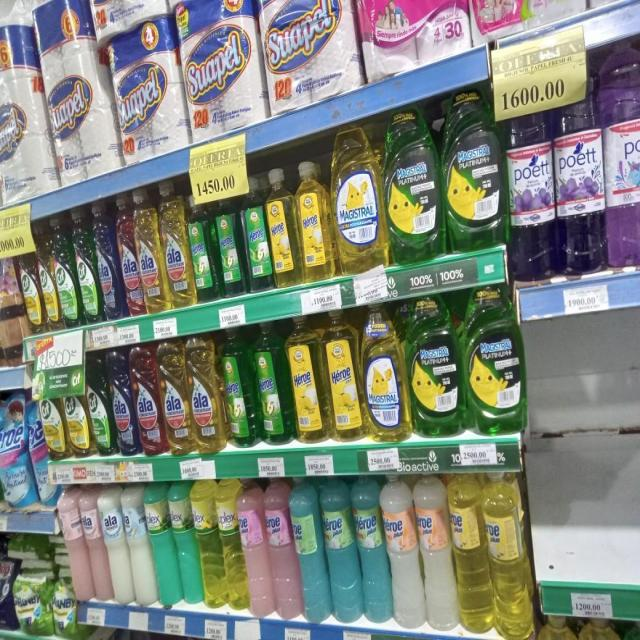ala_conc_amarillo: (191, 333, 223, 454), (164, 184, 193, 308), (162, 338, 190, 456), (140, 189, 164, 314)
ala_conc_azul: (98, 200, 120, 321), (112, 347, 134, 456)
ala_conc_rojo: (135, 344, 161, 457), (120, 193, 140, 318)
ala_crem_blanco: (128, 484, 152, 607), (103, 486, 127, 604)
ala_crem_rosado: (64, 489, 86, 602), (84, 487, 104, 602)
cif_conc_bot_amarilla: (66, 357, 88, 458), (42, 364, 64, 460), (22, 227, 40, 335), (40, 221, 56, 332)
cif_conc_botella_verde: (77, 205, 98, 325), (56, 213, 77, 328), (88, 350, 110, 457)
heroe: (485, 470, 527, 638), (450, 471, 485, 635), (323, 476, 356, 622), (327, 309, 362, 443), (356, 474, 386, 624), (292, 315, 326, 443), (258, 320, 292, 446), (225, 327, 257, 448), (220, 478, 242, 613)
magistral_con_amarillo: (333, 123, 382, 274), (364, 304, 406, 443), (540, 614, 583, 640), (583, 617, 629, 640)
